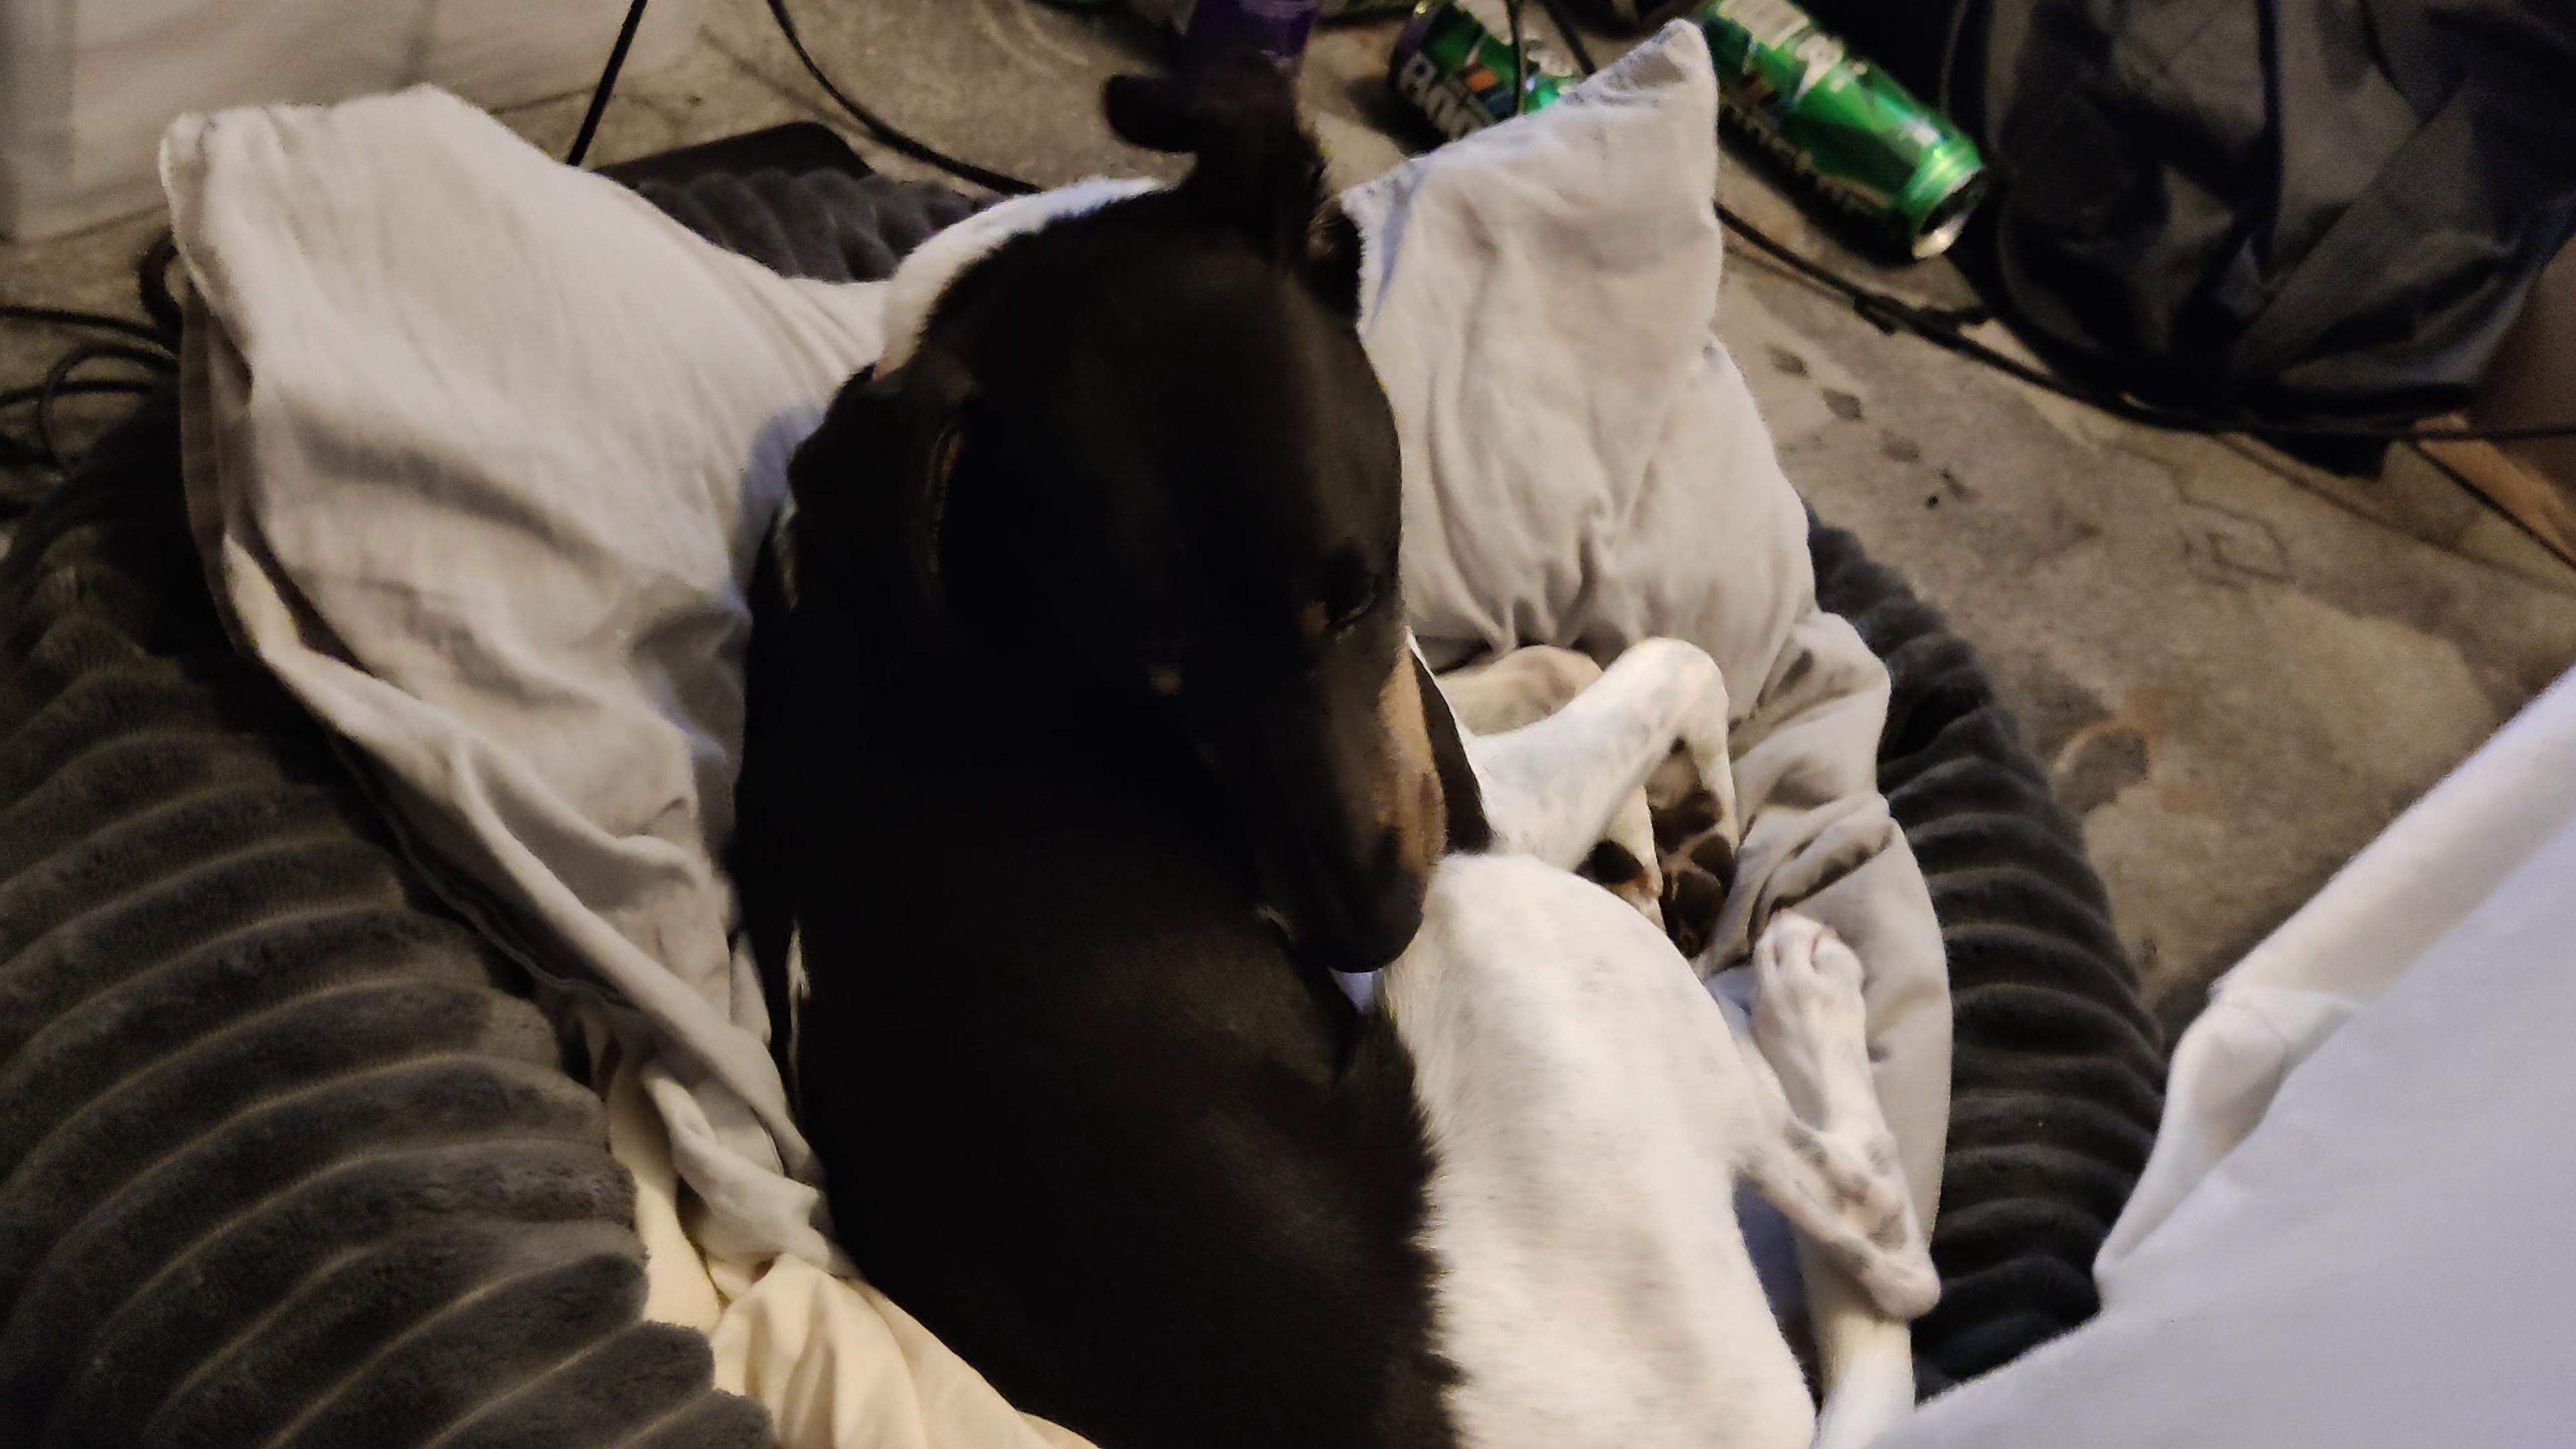Dog: (678, 27, 1974, 1449)
